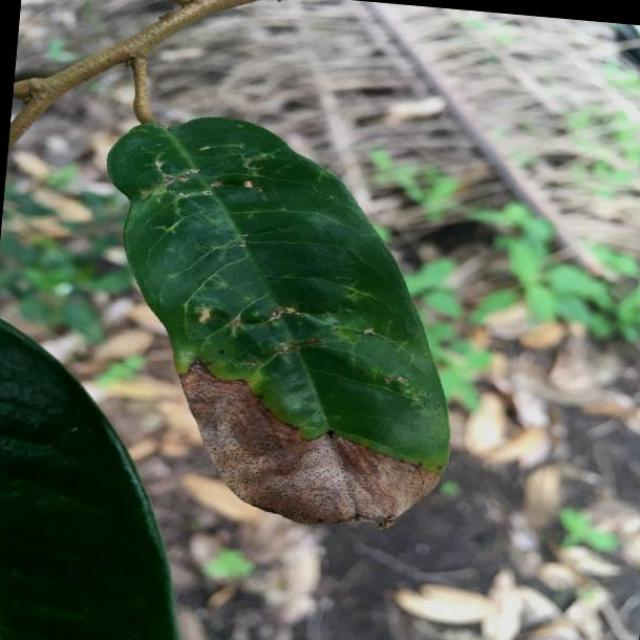Leaf Blight: (70, 97, 486, 540)
